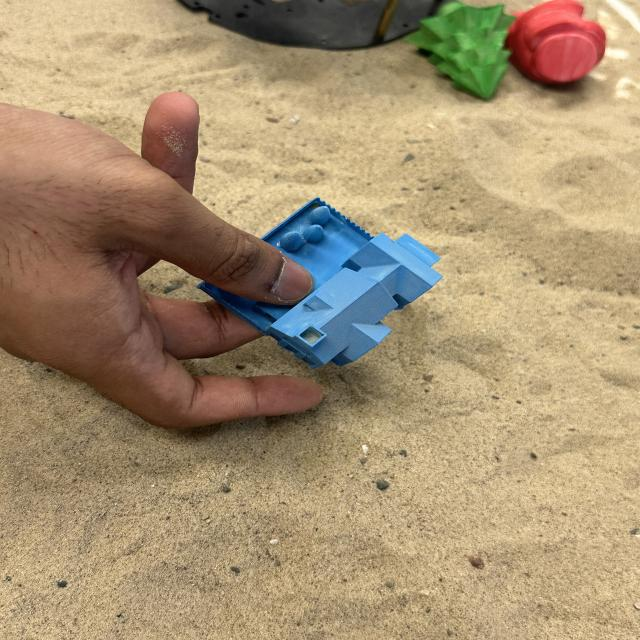fire: (508, 0, 606, 86)
house: (195, 196, 443, 370)
tree: (403, 0, 517, 101)
